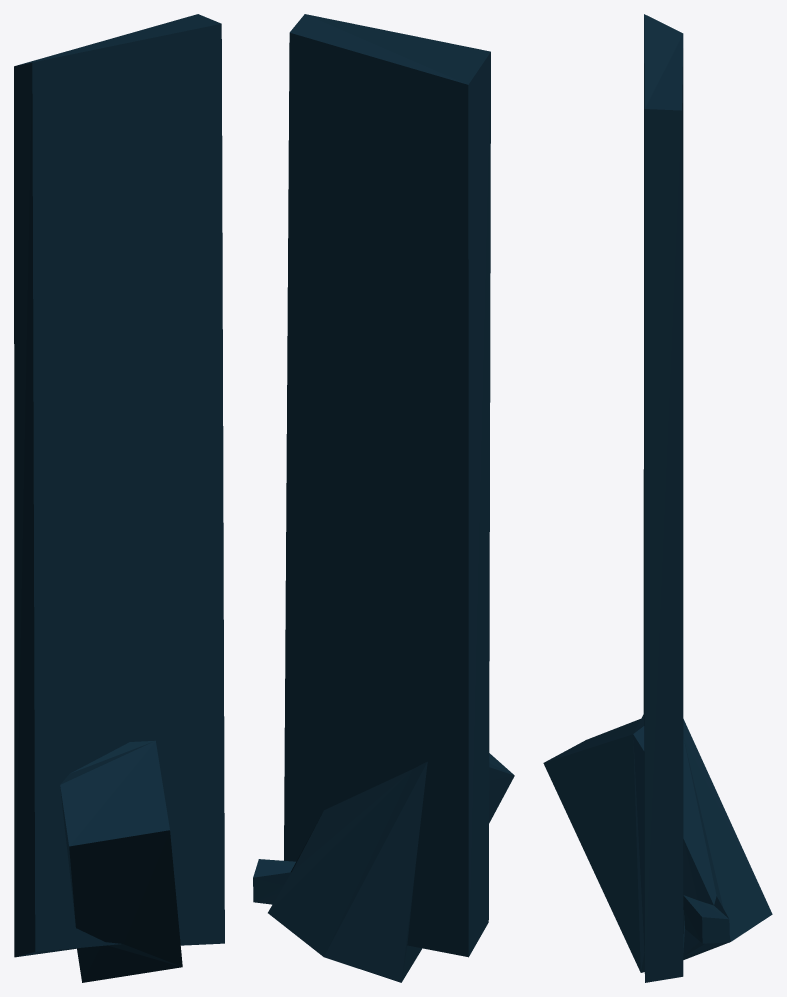
3 views of the same model, side by side, from view 1: azimuth 30°, elevation 25°; view 2: azimuth 150°, elevation 25°; view 3: azimuth 270°, elevation 25° (orthographic). The views are drawn at different scales.
Parts seen in each view (by area): view 1: 167_Cube.697; view 2: 167_Cube.697; view 3: 167_Cube.697.
Boxes of the visible parts, x1=… form: 167_Cube.697: x1=14, y1=14, x2=224, y2=982; 167_Cube.697: x1=253, y1=14, x2=514, y2=982; 167_Cube.697: x1=543, y1=14, x2=772, y2=982.
Size of the model in its own units: 2.92 by 12.86 by 2.96.
